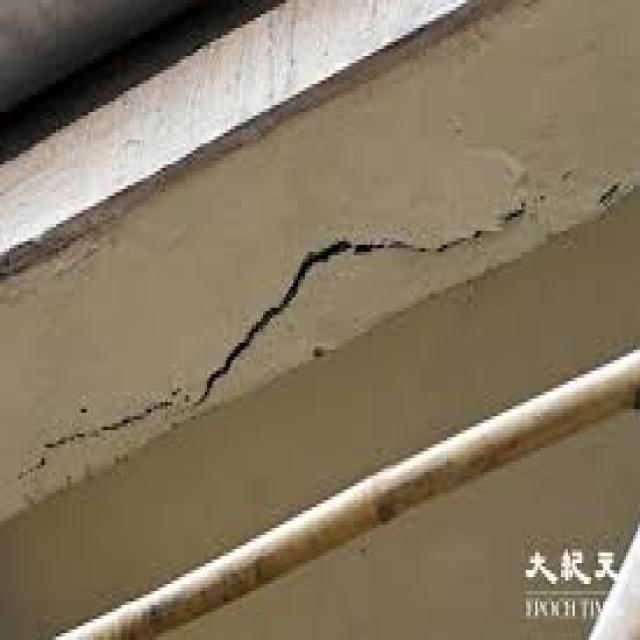wall_crack: (189, 241, 337, 410), (18, 385, 180, 482), (339, 202, 524, 260)
